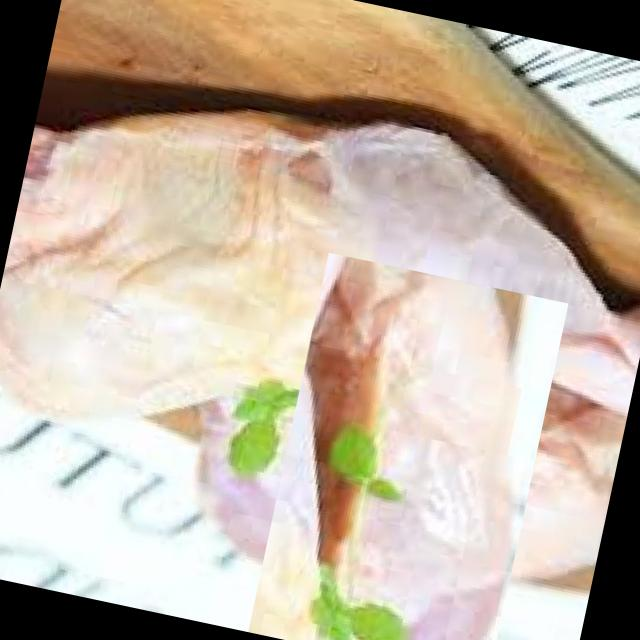chicken: (0, 39, 640, 544), (211, 282, 599, 640)
